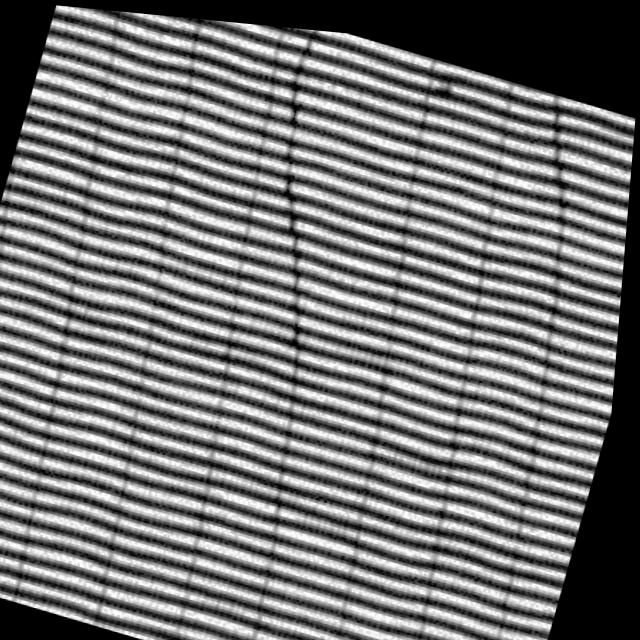Stitch: (184, 16, 409, 428)
